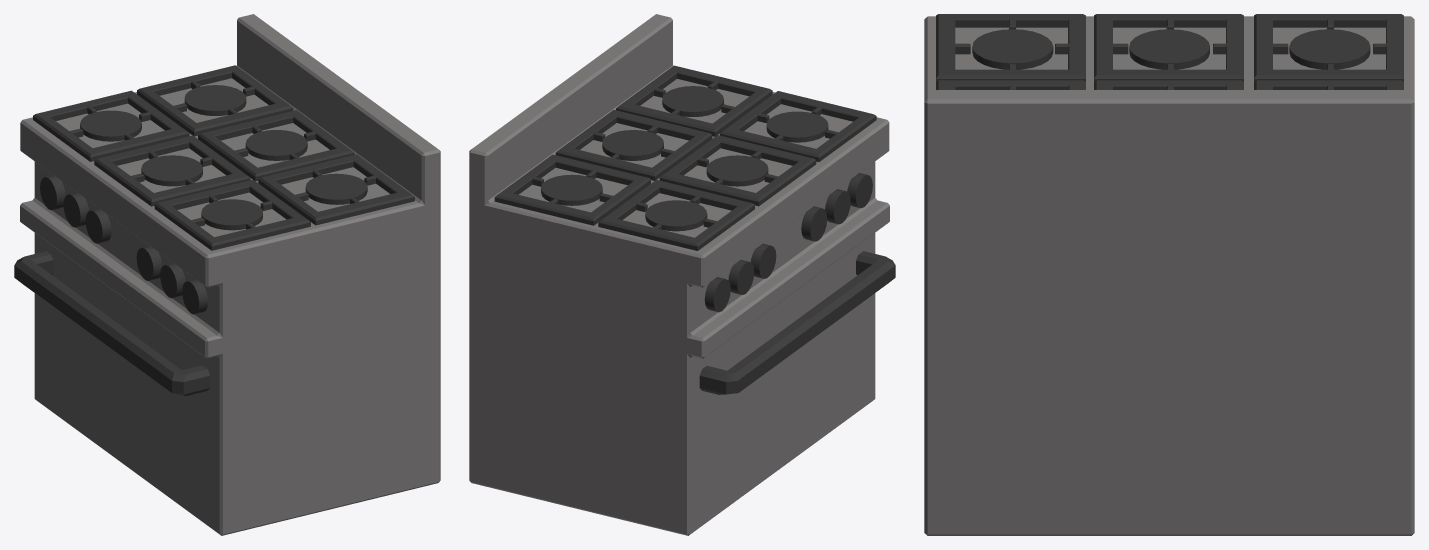
The model's file is Cholla.fbx.
3 views of the same model, side by side, from view 1: azimuth 30°, elevation 25°; view 2: azimuth 150°, elevation 25°; view 3: azimuth 270°, elevation 25° (orthographic). The views are drawn at different scales.
Parts seen in each view (by area): view 1: Cholla; view 2: Cholla; view 3: Cholla.
Boxes of the visible parts, x1,y1,x2,y2 form: Cholla: (14,14,440,535); Cholla: (469,14,895,535); Cholla: (924,14,1414,535).
Size of the model in its own units: 471 by 589 by 600.
1 material, 1 textured.
